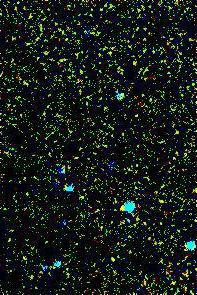star: (107, 194, 137, 224)
